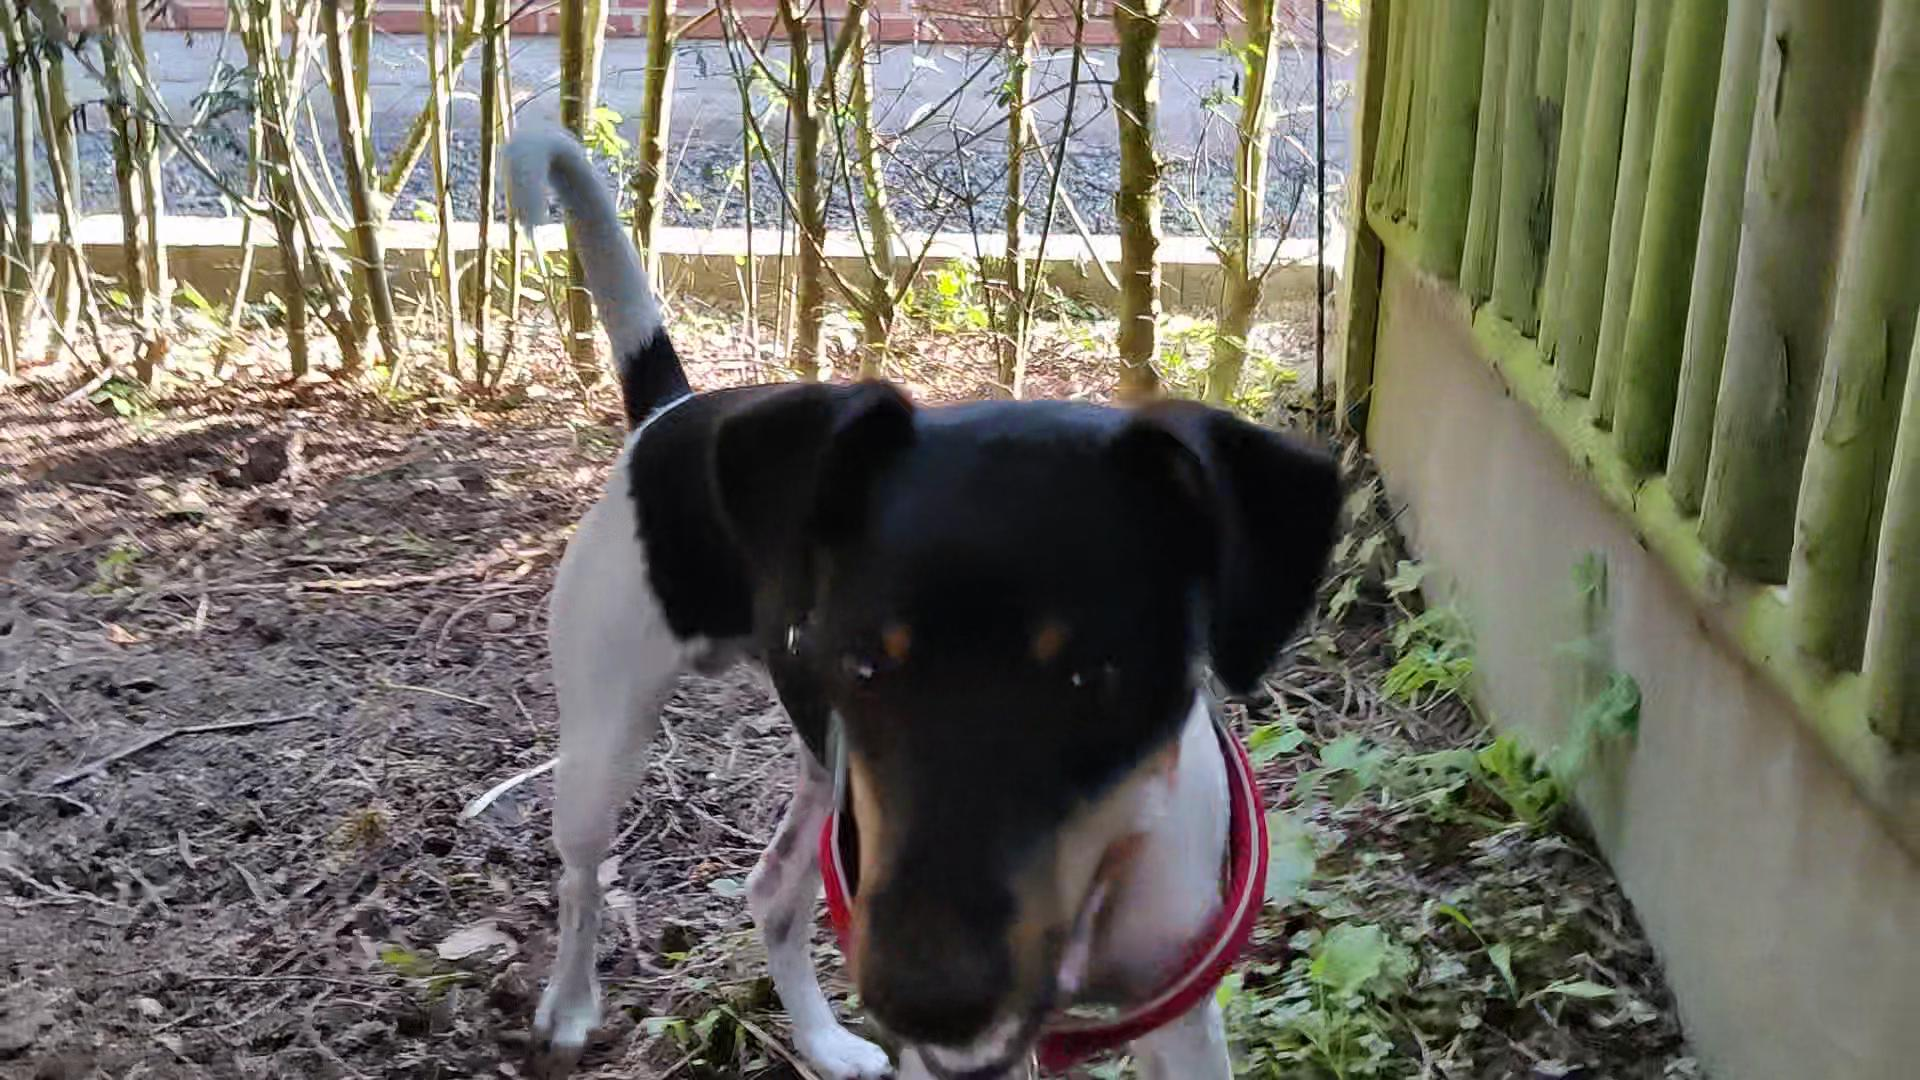Dog: (462, 67, 1391, 1079)
